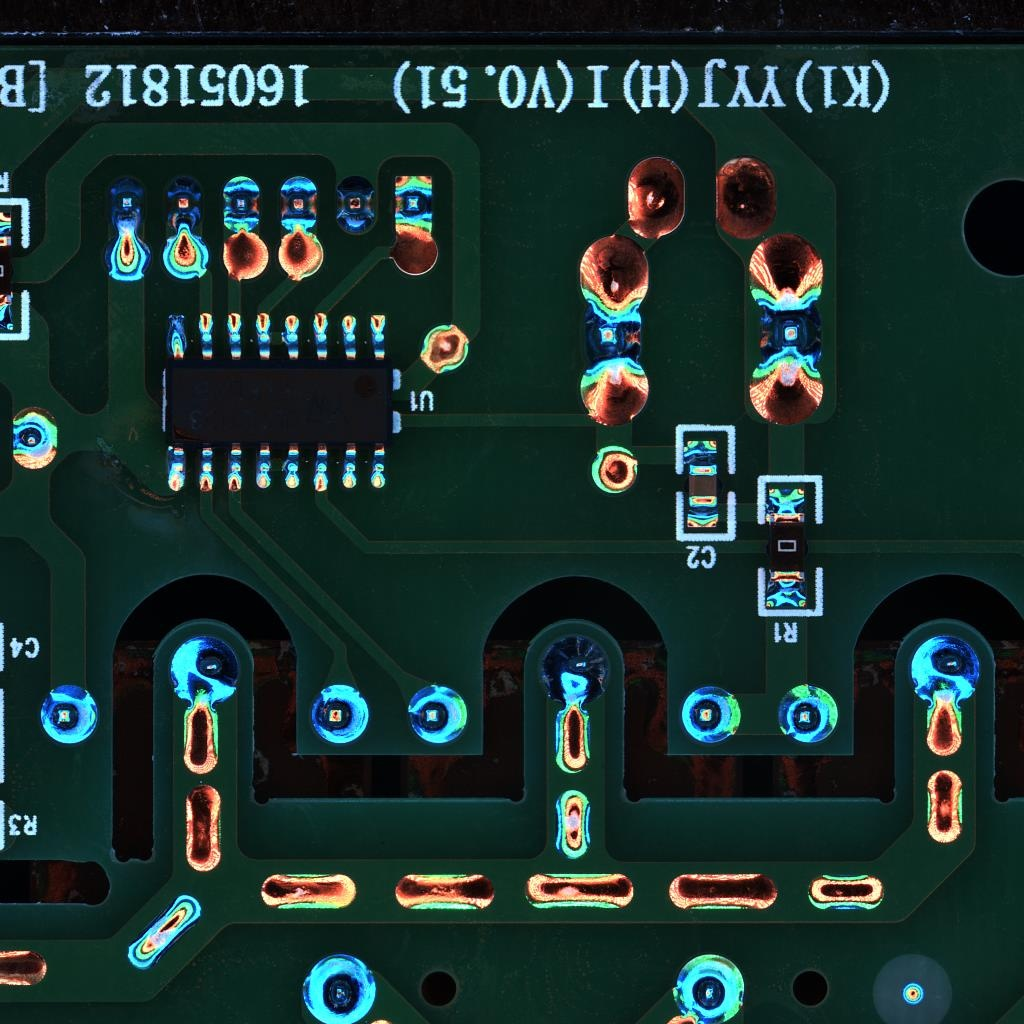spot: (298, 953, 380, 1024), (166, 633, 241, 709), (906, 634, 984, 707), (537, 634, 611, 710), (668, 951, 745, 1024), (751, 298, 821, 373), (579, 302, 646, 372), (406, 682, 471, 749), (34, 681, 101, 746), (776, 682, 840, 746), (679, 684, 743, 747), (310, 683, 370, 747), (334, 173, 379, 236), (162, 173, 203, 235), (392, 173, 434, 232), (109, 171, 146, 237), (223, 173, 260, 236), (279, 176, 317, 232)
